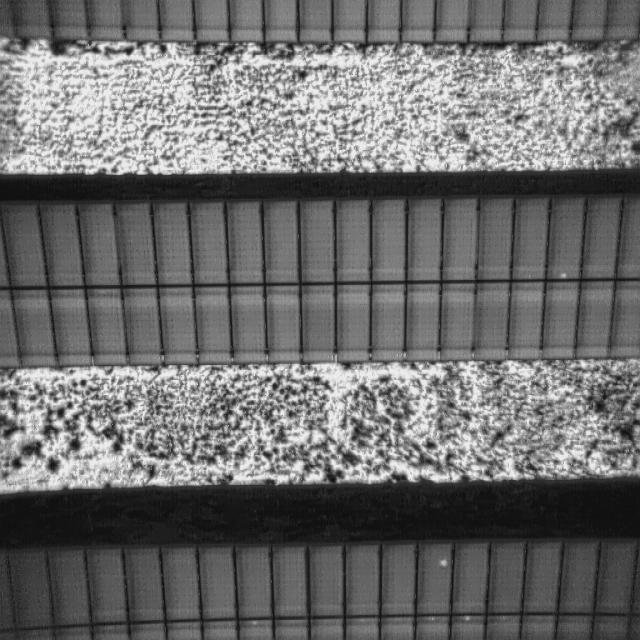diode: (419, 544, 454, 616), (553, 200, 577, 283)
